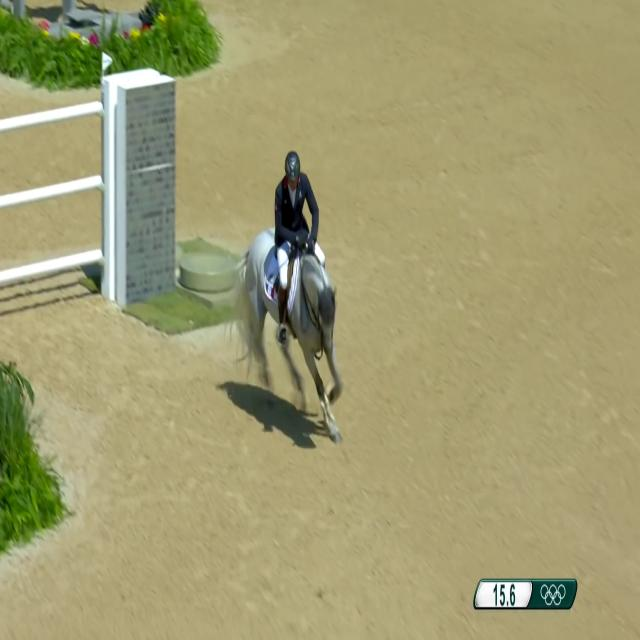Horse Rider: (260, 121, 336, 363)
Horse Running: (226, 222, 357, 456)
